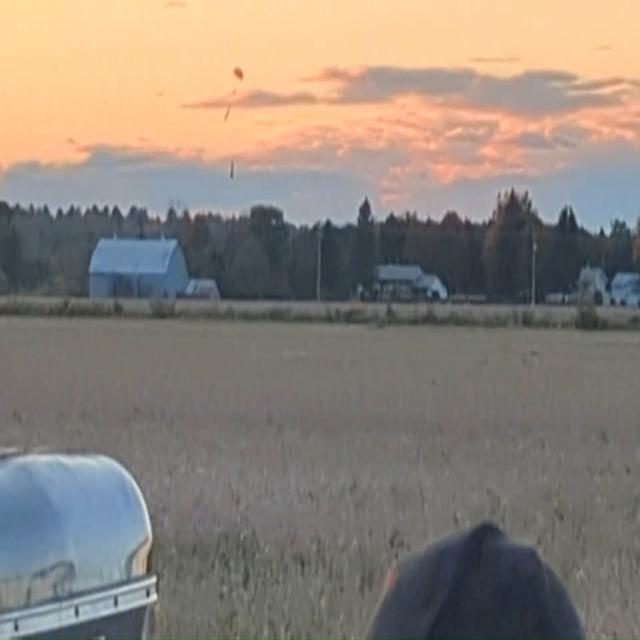Rocket: (230, 159, 234, 180)
